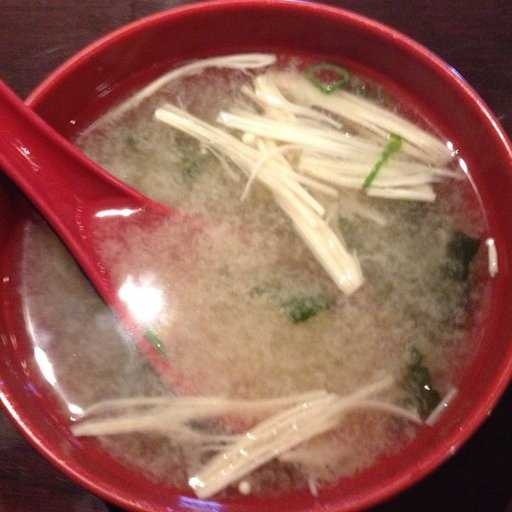soup: (1, 36, 495, 488)
